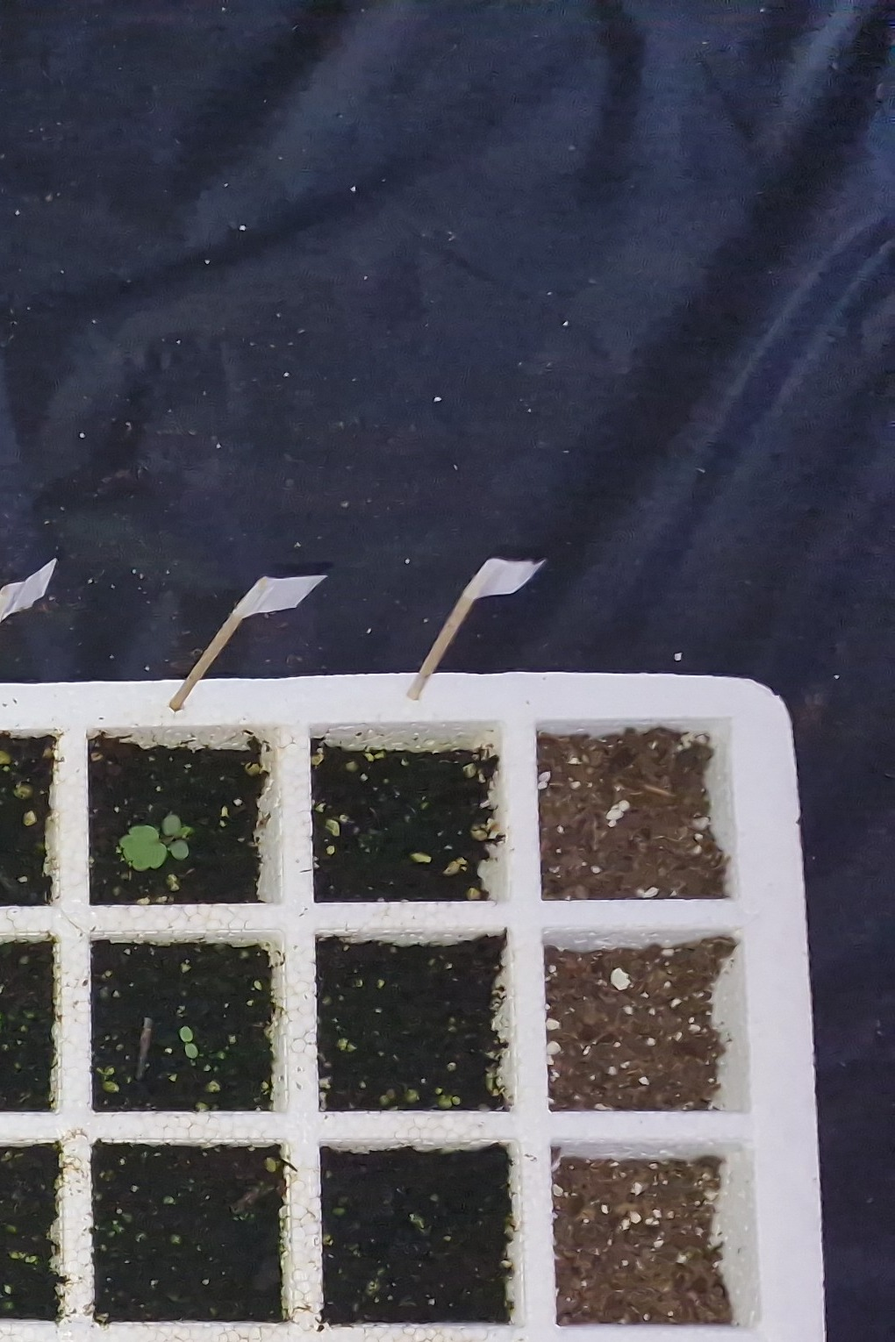Folha: (121, 826, 167, 870), (171, 841, 189, 859), (163, 816, 181, 834), (180, 1026, 193, 1042), (185, 1044, 197, 1058)
Germinacao: (121, 815, 188, 870), (180, 1026, 198, 1058)
